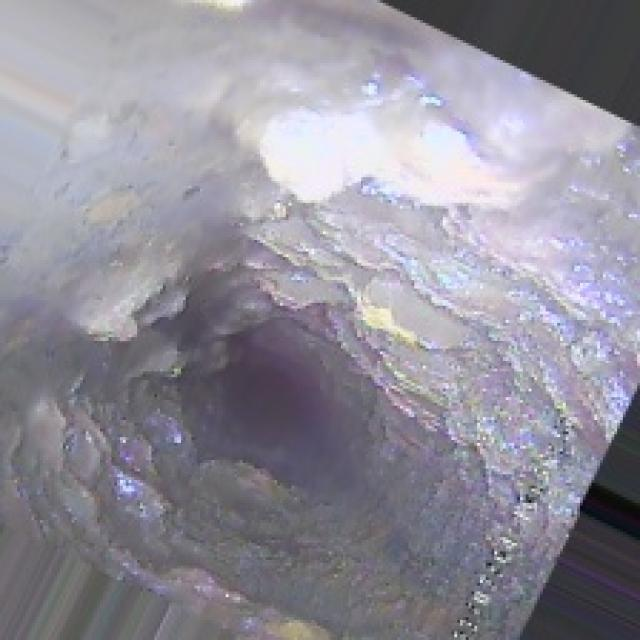encrustation: (86, 134, 591, 437)
